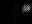person: (22, 5, 31, 14)
